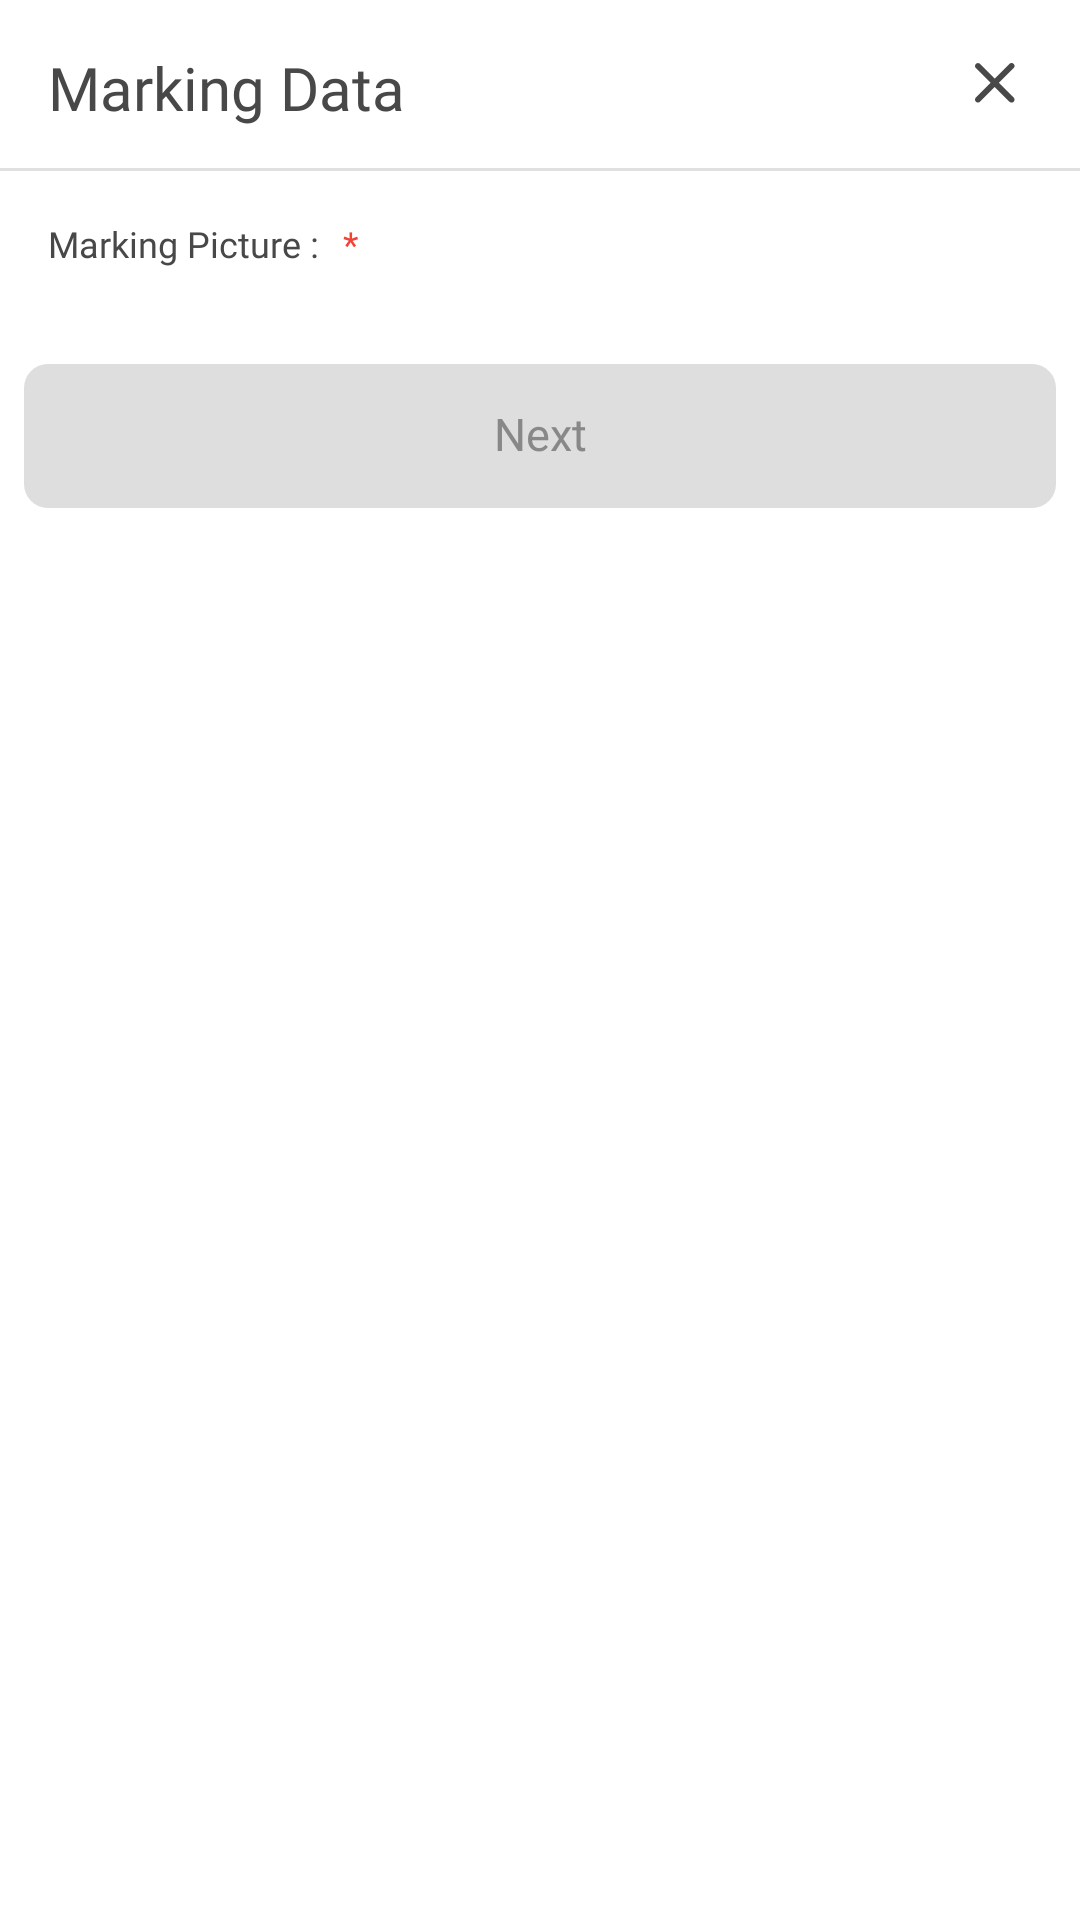

Icon bounding boxes for this 1080x1920 phone screenshot, format (x1, y1, x2, y2):
close: (975, 63, 1015, 103)
